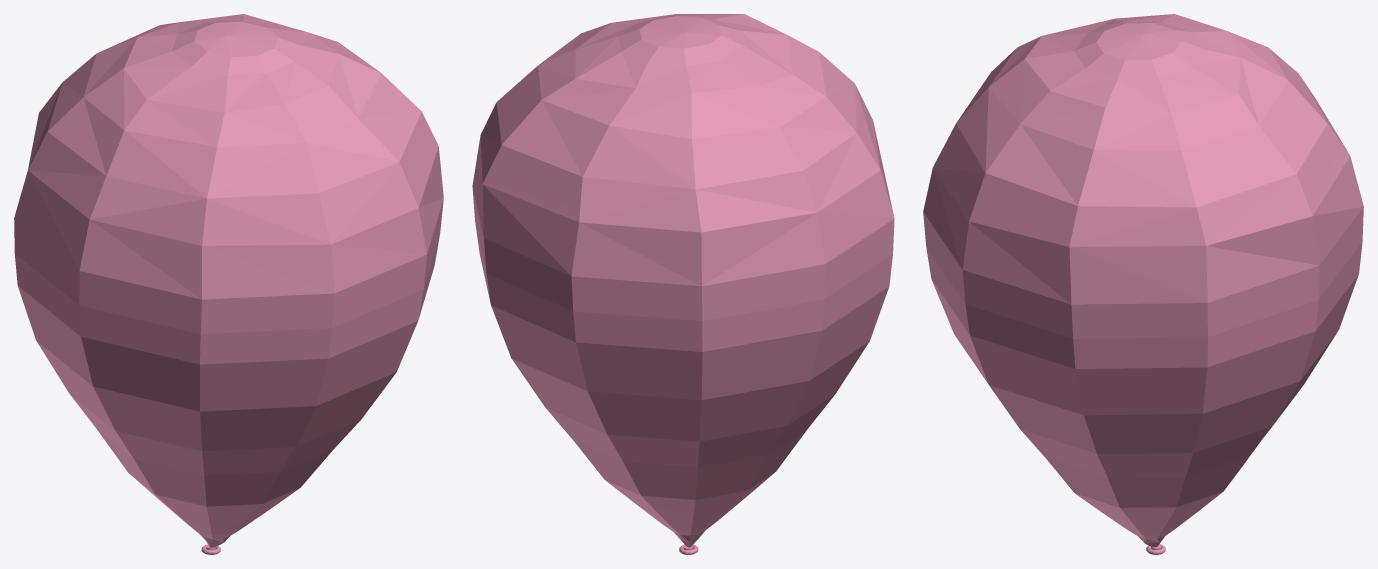
The model's file is BalloonModel.fbx.
The picture shows the model from 3 angles, left to right: view 1: azimuth 30°, elevation 25°; view 2: azimuth 150°, elevation 25°; view 3: azimuth 270°, elevation 25°; orthographic projection.
Parts seen in each view (by area): view 1: group_868482264; view 2: group_868482264; view 3: group_868482264.
Part boxes in pixels (x1,y1,x2,y2): group_868482264: (14,14,443,547); group_868482264: (472,14,894,547); group_868482264: (923,14,1363,547).
Bounding box in the file's own units: 42.24 × 57.66 × 44.14.
